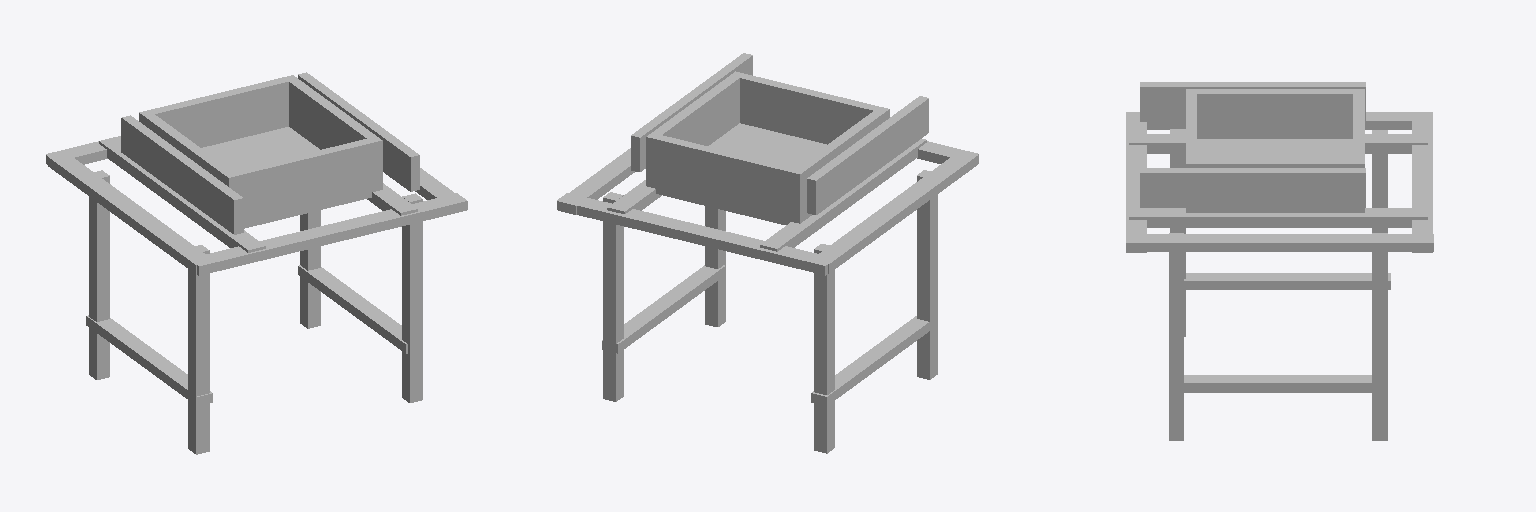
The model's file is Hero_Body_Upper.obj.
3 views of the same model, side by side, from view 1: azimuth 30°, elevation 25°; view 2: azimuth 150°, elevation 25°; view 3: azimuth 270°, elevation 25° (orthographic).
Visible parts, largest first — view 1: pCube62; view 2: pCube62; view 3: pCube62.
Boxes of the visible parts, box(x1,y1,x2,y2) form: pCube62: box(46, 72, 467, 454); pCube62: box(557, 53, 978, 453); pCube62: box(1126, 82, 1433, 440).
Bounding box in the file's own units: 8.11 × 7.51 × 8.02.